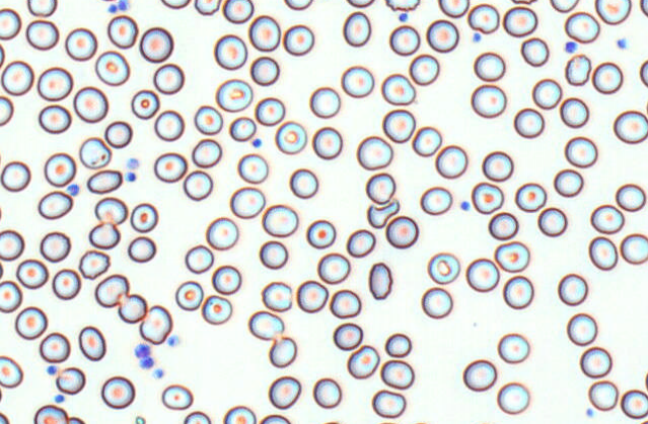PLT: (134, 344, 155, 359), (138, 355, 154, 371), (67, 183, 81, 198), (167, 334, 182, 348), (117, 0, 133, 12), (126, 157, 139, 171), (459, 200, 471, 214), (153, 367, 165, 380), (45, 364, 58, 376), (565, 42, 577, 55), (618, 37, 630, 50), (469, 33, 483, 44), (397, 12, 410, 23), (107, 3, 118, 15), (125, 172, 137, 183), (251, 137, 262, 148), (54, 394, 68, 402), (586, 407, 595, 418)
RBC: (139, 304, 172, 344), (36, 66, 73, 101), (356, 135, 393, 170), (73, 86, 108, 123), (470, 83, 506, 118), (94, 50, 129, 86), (215, 78, 252, 112), (213, 34, 247, 70), (139, 26, 173, 62), (261, 204, 298, 237), (94, 273, 129, 307), (100, 375, 135, 409), (465, 257, 499, 292), (0, 60, 34, 95), (248, 14, 280, 51), (613, 110, 647, 144), (346, 344, 379, 379), (43, 152, 76, 187), (382, 108, 415, 143), (564, 11, 600, 43), (205, 216, 238, 250), (268, 375, 301, 409), (64, 27, 97, 61), (462, 359, 497, 391), (230, 186, 265, 218), (494, 240, 529, 272), (502, 5, 537, 37), (496, 381, 529, 414), (14, 306, 47, 339), (385, 215, 418, 248), (341, 65, 374, 98), (296, 279, 328, 313), (435, 144, 467, 178), (381, 73, 415, 105), (275, 120, 307, 154), (106, 14, 138, 48), (248, 310, 284, 340), (317, 252, 350, 284), (579, 346, 612, 378), (79, 136, 111, 169), (471, 181, 503, 214), (427, 252, 460, 284), (426, 19, 458, 52), (591, 61, 623, 94), (502, 275, 533, 309), (25, 19, 59, 50), (37, 190, 73, 219), (282, 24, 314, 56), (15, 258, 48, 289), (566, 312, 597, 345), (564, 136, 597, 167), (380, 359, 414, 389), (588, 236, 618, 270), (153, 152, 187, 182), (590, 204, 624, 234), (371, 389, 406, 418), (342, 11, 371, 46), (78, 325, 106, 361), (497, 332, 529, 363), (421, 286, 452, 318), (39, 331, 70, 363), (309, 86, 340, 118), (312, 126, 342, 159), (182, 169, 213, 200), (513, 107, 544, 138), (39, 231, 70, 262), (153, 63, 184, 94), (411, 125, 442, 156), (482, 150, 513, 181), (389, 24, 420, 55), (78, 249, 110, 279), (51, 268, 81, 300), (365, 172, 395, 204), (0, 160, 30, 192), (154, 109, 184, 141), (409, 53, 439, 85), (557, 273, 587, 305), (514, 182, 546, 212), (473, 51, 505, 81), (559, 96, 589, 128), (268, 335, 297, 368), (94, 196, 127, 225), (38, 104, 71, 133), (588, 380, 618, 411), (261, 281, 292, 311), (201, 294, 232, 324), (237, 153, 268, 183), (532, 78, 562, 109), (193, 104, 223, 135), (254, 96, 285, 126), (329, 289, 361, 318), (420, 186, 452, 215), (368, 261, 392, 299), (117, 293, 147, 323), (86, 169, 122, 194), (211, 264, 241, 294), (537, 206, 567, 236), (191, 138, 221, 168), (306, 219, 336, 249), (595, 0, 631, 25), (312, 377, 341, 408), (55, 366, 85, 395), (184, 244, 213, 274), (488, 211, 518, 240), (553, 168, 583, 197), (289, 168, 318, 198), (250, 56, 279, 86), (130, 89, 159, 119), (88, 222, 120, 249), (161, 383, 193, 410), (564, 53, 591, 85), (346, 228, 375, 257), (259, 240, 288, 269), (520, 37, 549, 66), (333, 322, 363, 350), (175, 280, 203, 310), (130, 202, 158, 232), (615, 183, 645, 211), (620, 233, 647, 264), (620, 389, 647, 419), (104, 120, 132, 148), (127, 235, 156, 262), (0, 355, 23, 388), (0, 229, 24, 260), (0, 280, 22, 313), (222, 0, 253, 23), (0, 7, 21, 40), (229, 116, 256, 141), (384, 332, 411, 357), (33, 404, 68, 423), (223, 405, 256, 423), (26, 0, 57, 17), (438, 0, 469, 17), (0, 95, 13, 126), (194, 0, 220, 15), (385, 0, 420, 11), (183, 410, 211, 423), (549, 0, 579, 12), (284, 0, 313, 10), (259, 414, 290, 423), (160, 0, 190, 9), (639, 59, 647, 87), (346, 0, 374, 8), (640, 0, 648, 16), (67, 416, 85, 423), (0, 43, 5, 67), (510, 0, 537, 4), (0, 412, 9, 423), (320, 420, 342, 424), (644, 371, 648, 392), (0, 260, 4, 279), (97, 0, 119, 2)
Schistocyte: (468, 5, 500, 33), (369, 201, 400, 228)
